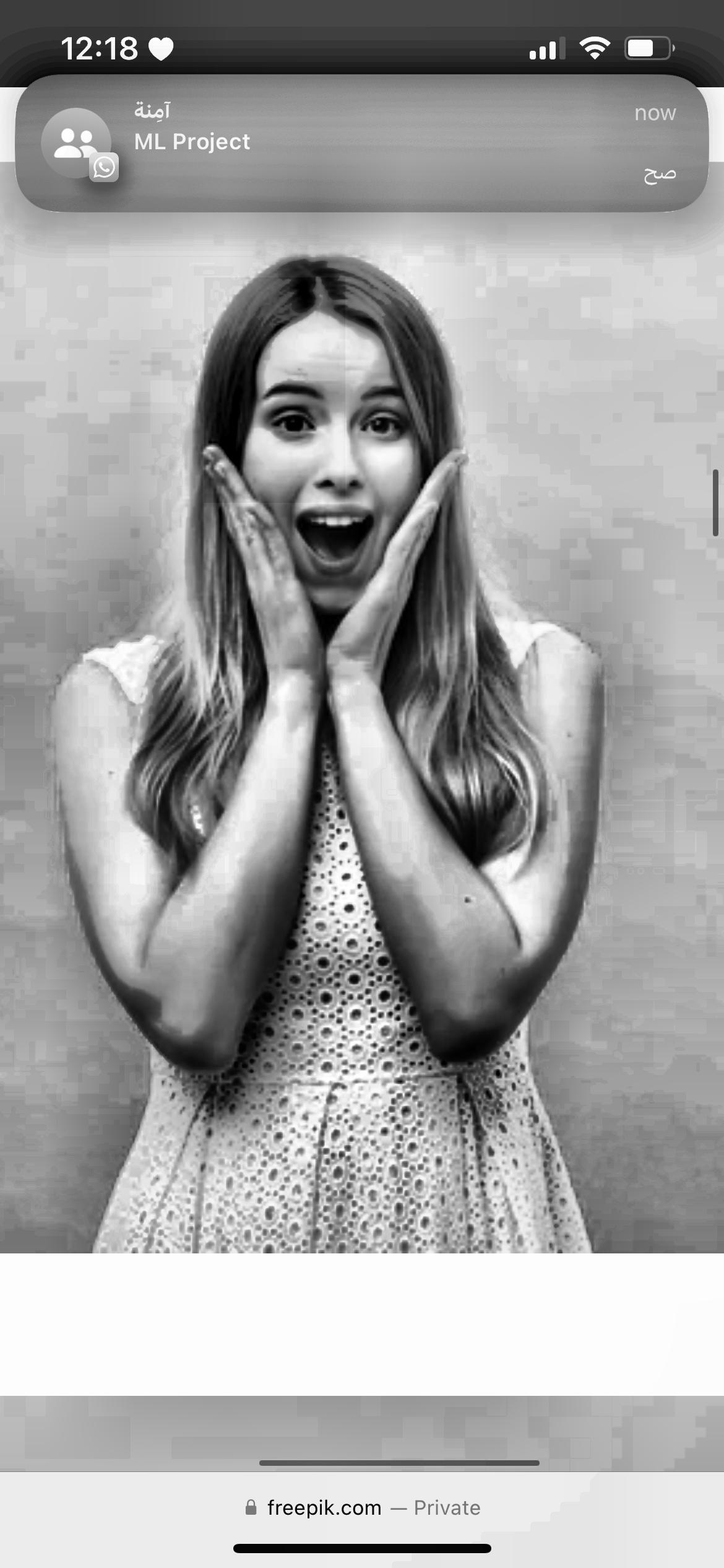surprised: (252, 343, 427, 621)
